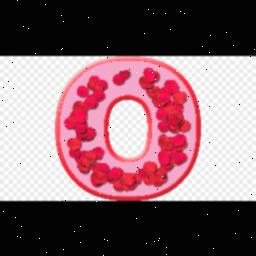o: (46, 56, 218, 200)
